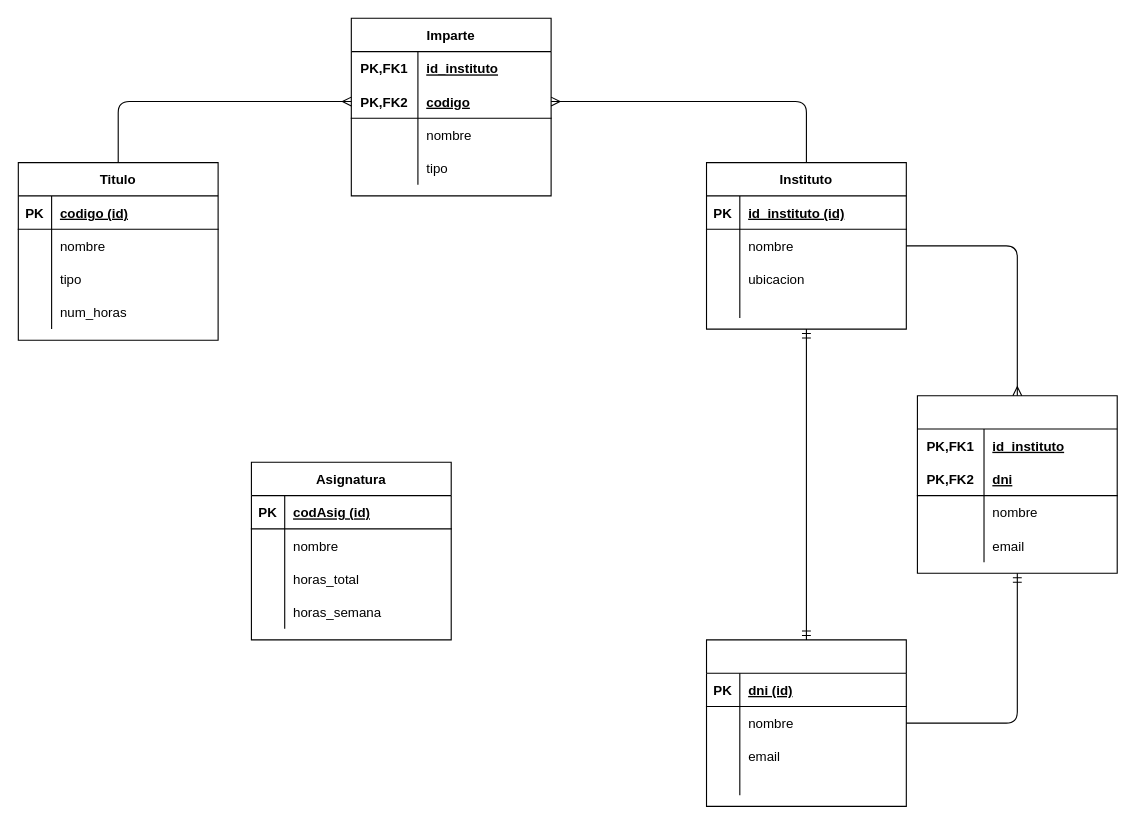
Image size: 1136x825. Some labels were removed from this diagram. The shapes that lost their labels are listed below. From the top down, each one's box as (x1, y1, x2, y2) in pixels, then its label:
(916, 395, 1117, 573): Trabajan
(705, 639, 906, 806): Profesor
